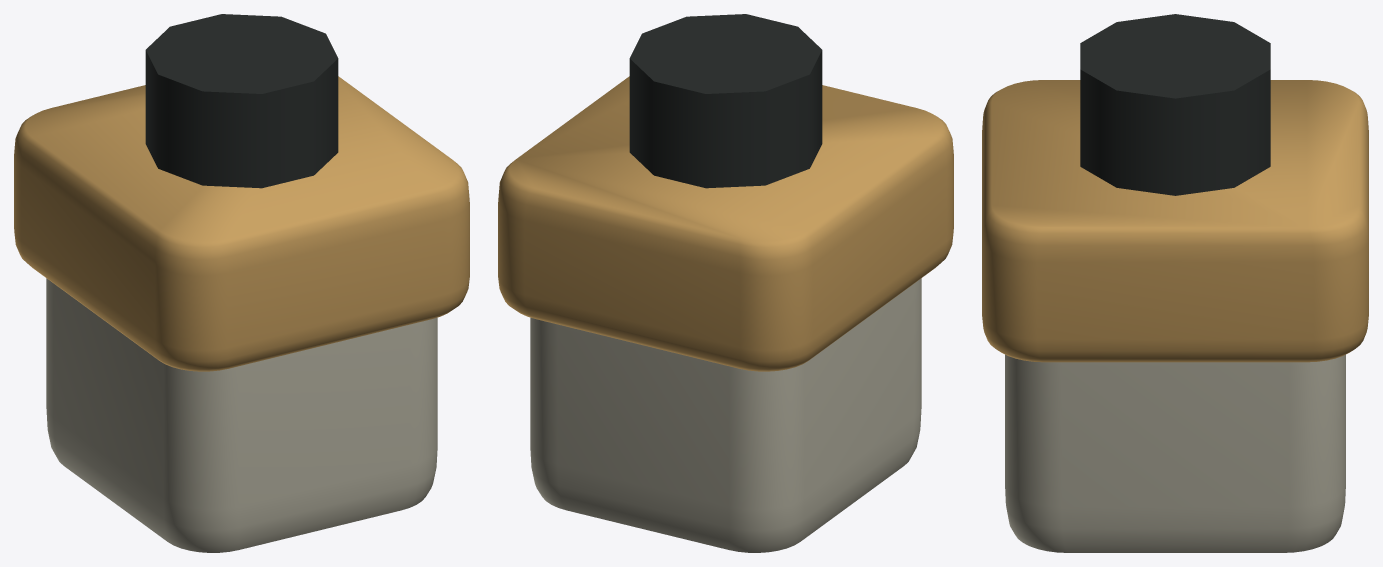
The model's file is Studio.glb.
3 views of the same model, side by side, from view 1: azimuth 30°, elevation 25°; view 2: azimuth 150°, elevation 25°; view 3: azimuth 270°, elevation 25° (orthographic). The views are drawn at different scales.
Parts seen in each view (by area): view 1: Stop thumb, Stop clamp, Screw adjuster; view 2: Stop thumb, Stop clamp, Screw adjuster; view 3: Stop thumb, Stop clamp, Screw adjuster.
Part boxes in pixels (bbox=[...]): Stop thumb: bbox=[14, 76, 469, 371]; Stop clamp: bbox=[46, 278, 437, 552]; Screw adjuster: bbox=[145, 14, 338, 188]; Stop thumb: bbox=[498, 76, 953, 371]; Stop clamp: bbox=[530, 278, 921, 552]; Screw adjuster: bbox=[629, 14, 822, 188]; Stop thumb: bbox=[982, 80, 1368, 362]; Stop clamp: bbox=[1005, 354, 1345, 552]; Screw adjuster: bbox=[1080, 14, 1270, 195].
Size of the model in its own units: 0.1614 by 0.21 by 0.17.
